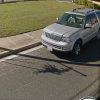Car: (40, 5, 100, 57)
